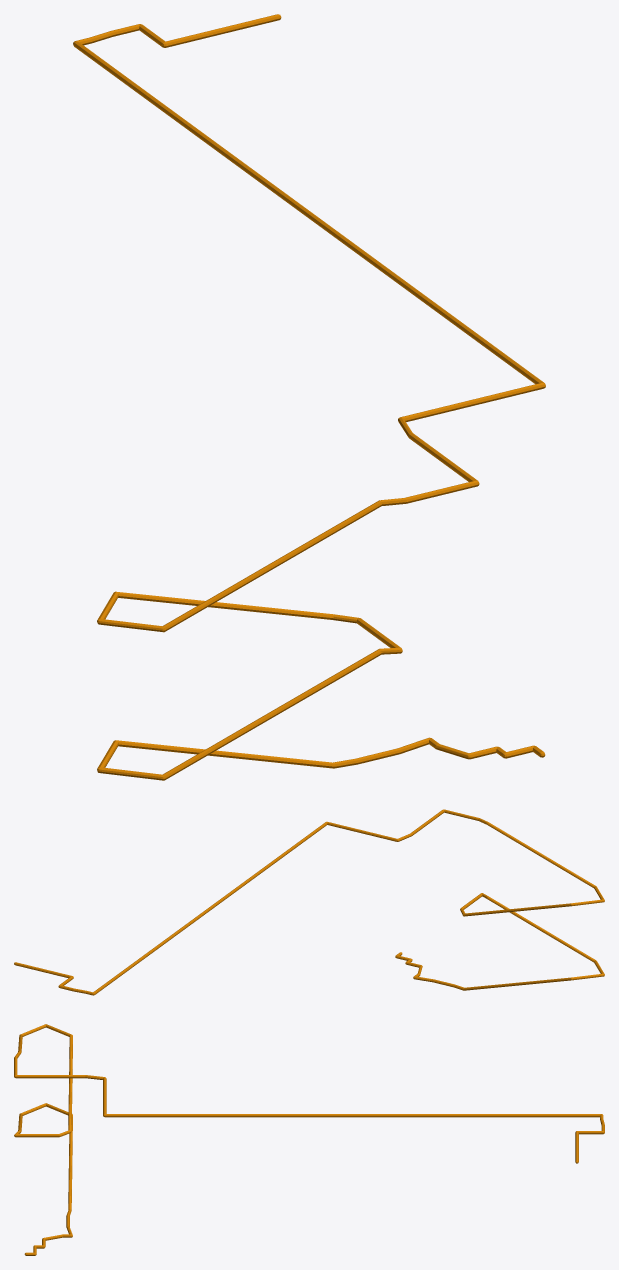
The picture shows the model from 3 angles, top to bottom: view 1: azimuth 30°, elevation 25°; view 2: azimuth 150°, elevation 25°; view 3: azimuth 270°, elevation 25°; orthographic projection. The views are drawn at different scales.
Size of the model in its own units: 2406 by 1020 by 3390.
